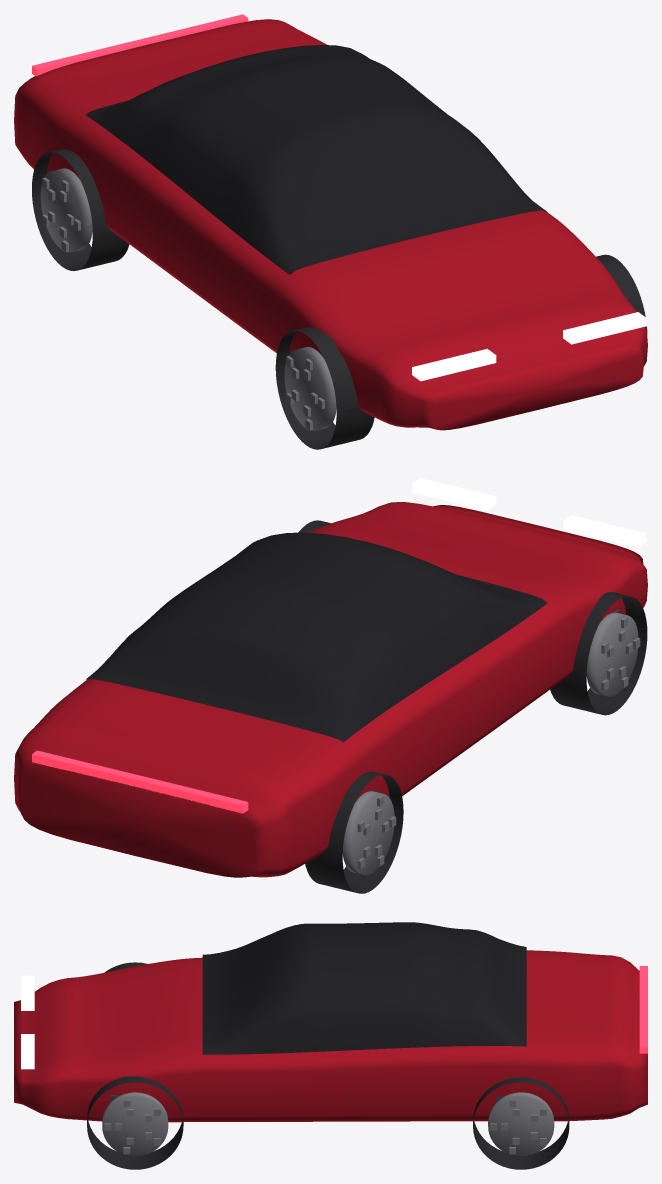
Rendered from ea-demo-concept-coupe.glb.
3 renders of one model, top to bottom at view 1: azimuth 30°, elevation 25°; view 2: azimuth 150°, elevation 25°; view 3: azimuth 270°, elevation 25°, orthographic. The views are drawn at different scales.
Parts seen in each view (by area): view 1: Body, Glass, Tyre_FL, Tyre_RL, Rim_RL, Rim_FL, Taillight_Bar, Headlight_L, Headlight_R, Tyre_FR; view 2: Body, Glass, Tyre_FL, Tyre_RL, Taillight_Bar, Rim_RL, Rim_FL, Headlight_R, Headlight_L; view 3: Body, Glass, Rim_FR, Rim_RR, Tyre_FR, Tyre_RR, Taillight_Bar, Headlight_L, Headlight_R.
Part boxes in pixels (x1,y1,x2,y2): Body: (14, 19, 647, 430); Glass: (85, 45, 546, 274); Tyre_FL: (275, 327, 374, 449); Tyre_RL: (32, 149, 129, 270); Rim_RL: (40, 168, 92, 252); Rim_FL: (284, 347, 336, 430); Taillight_Bar: (32, 14, 248, 76); Headlight_L: (412, 348, 496, 381); Headlight_R: (563, 312, 646, 344); Tyre_FR: (596, 254, 647, 333); Body: (14, 502, 647, 877); Glass: (86, 532, 547, 742); Tyre_FL: (550, 592, 647, 715); Tyre_RL: (305, 771, 403, 893); Taillight_Bar: (32, 750, 248, 813); Rim_RL: (342, 791, 394, 875); Rim_FL: (586, 612, 638, 696); Headlight_R: (412, 478, 496, 510); Headlight_L: (563, 515, 646, 547); Body: (14, 950, 647, 1122); Glass: (202, 922, 526, 1054); Rim_FR: (102, 1092, 168, 1156); Rim_RR: (488, 1092, 554, 1156); Tyre_FR: (87, 1076, 183, 1169); Tyre_RR: (473, 1077, 569, 1169); Taillight_Bar: (639, 966, 647, 1053); Headlight_L: (21, 975, 34, 1010); Headlight_R: (21, 1034, 34, 1069).
Bounding box in the file's own units: 2.11 × 1.33 × 4.6.
